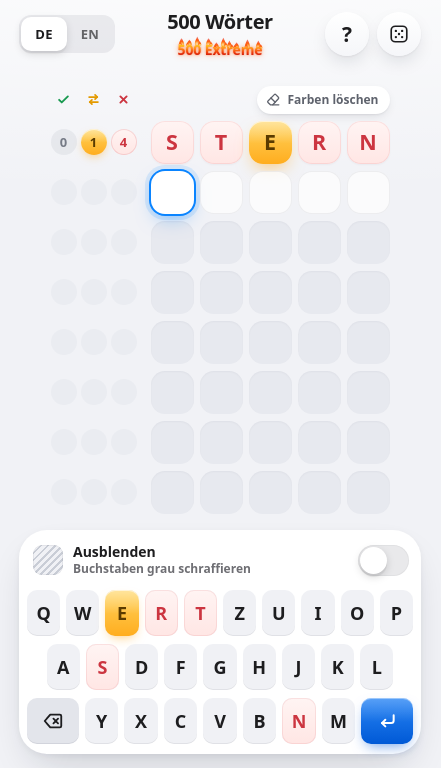
Test case: Hinweis › blendet «Farben löschen» unter der Sprechblase aus, ein Tipp auf die Blase schliesst sie nur
The image size is (441, 768).
Expected: the button "Farben löschen" is shown, [257,86,390,114]
Click the button named "Hinweis" at (347, 34), box [325,12,369,56]
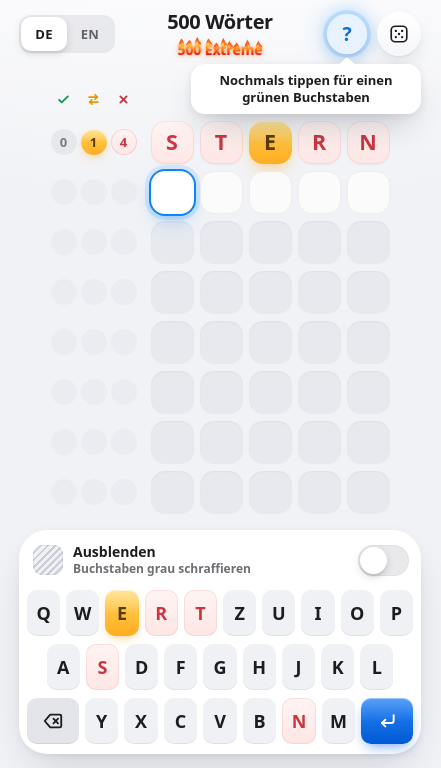
Expected: the button "Farben löschen" is gone
Click the tooltip "Nochmals tippen für einen grünen Buchstaben" at (306, 89), box [191,64,421,114]
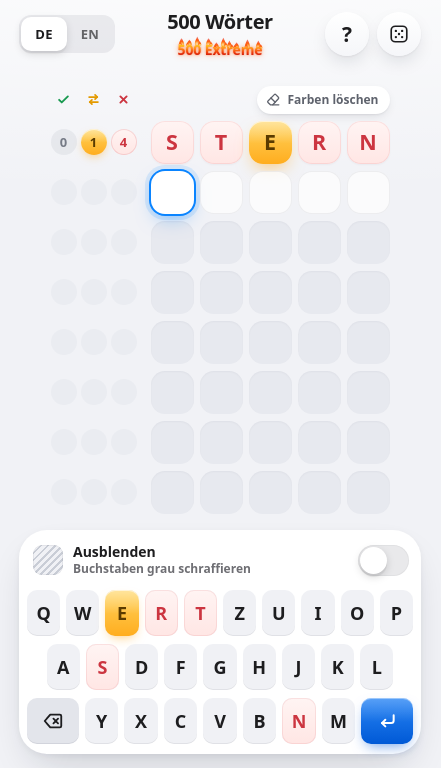
Expected: the button "Farben löschen" is shown, [257,86,390,114]
